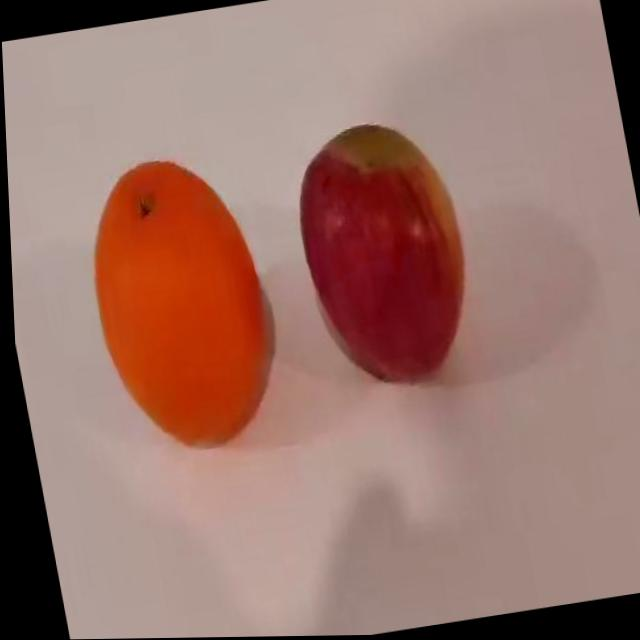Apple: (280, 112, 483, 398)
Orange: (69, 146, 290, 463)
